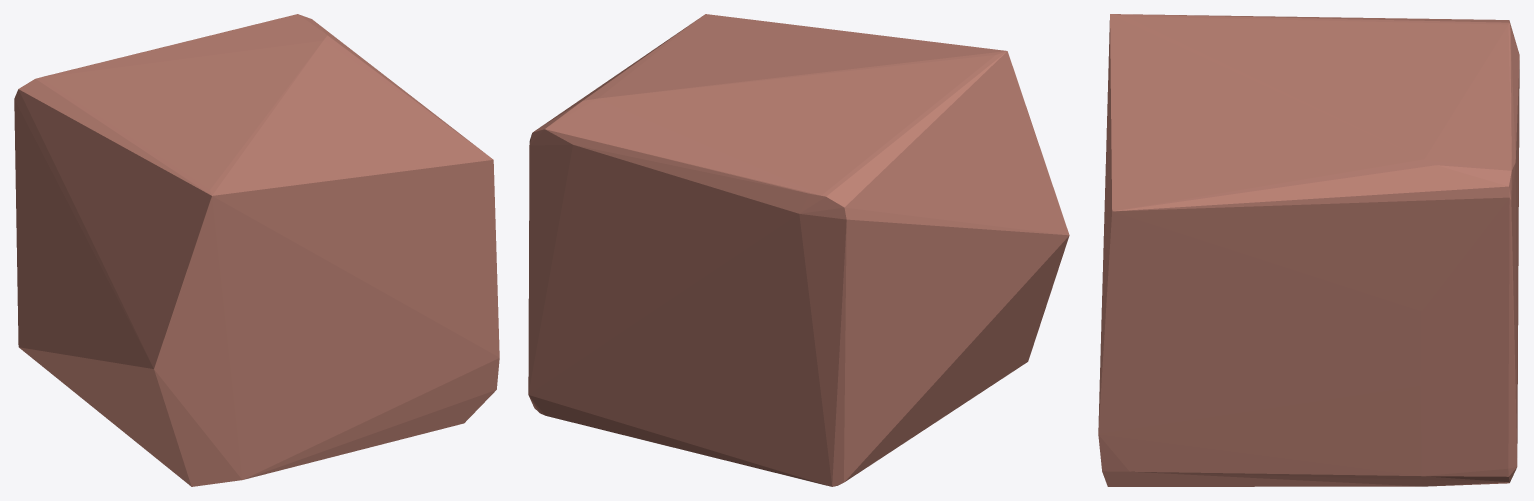
Rendered from ibcTank_steel_stainless_a01.glb.
The picture shows the model from 3 angles, left to right: view 1: azimuth 30°, elevation 25°; view 2: azimuth 150°, elevation 25°; view 3: azimuth 270°, elevation 25°; orthographic projection. The views are drawn at different scales.
Parts seen in each view (by area): view 1: geometry_0; view 2: geometry_0; view 3: geometry_0.
Part boxes in pixels (box(x1,y1,x2,y2)): geometry_0: box(14, 14, 499, 486); geometry_0: box(528, 14, 1069, 486); geometry_0: box(1098, 14, 1519, 486).
Bounding box in the file's own units: 0.4779 × 0.3862 × 0.4445.
